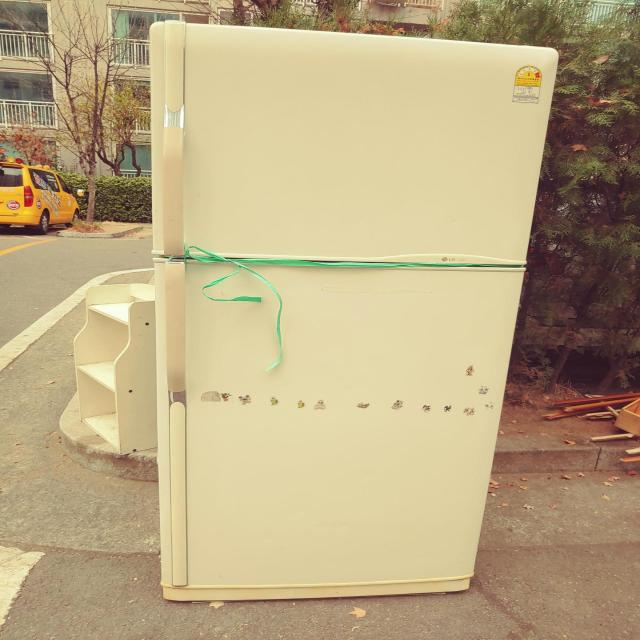refrigerator: (147, 19, 563, 608)
